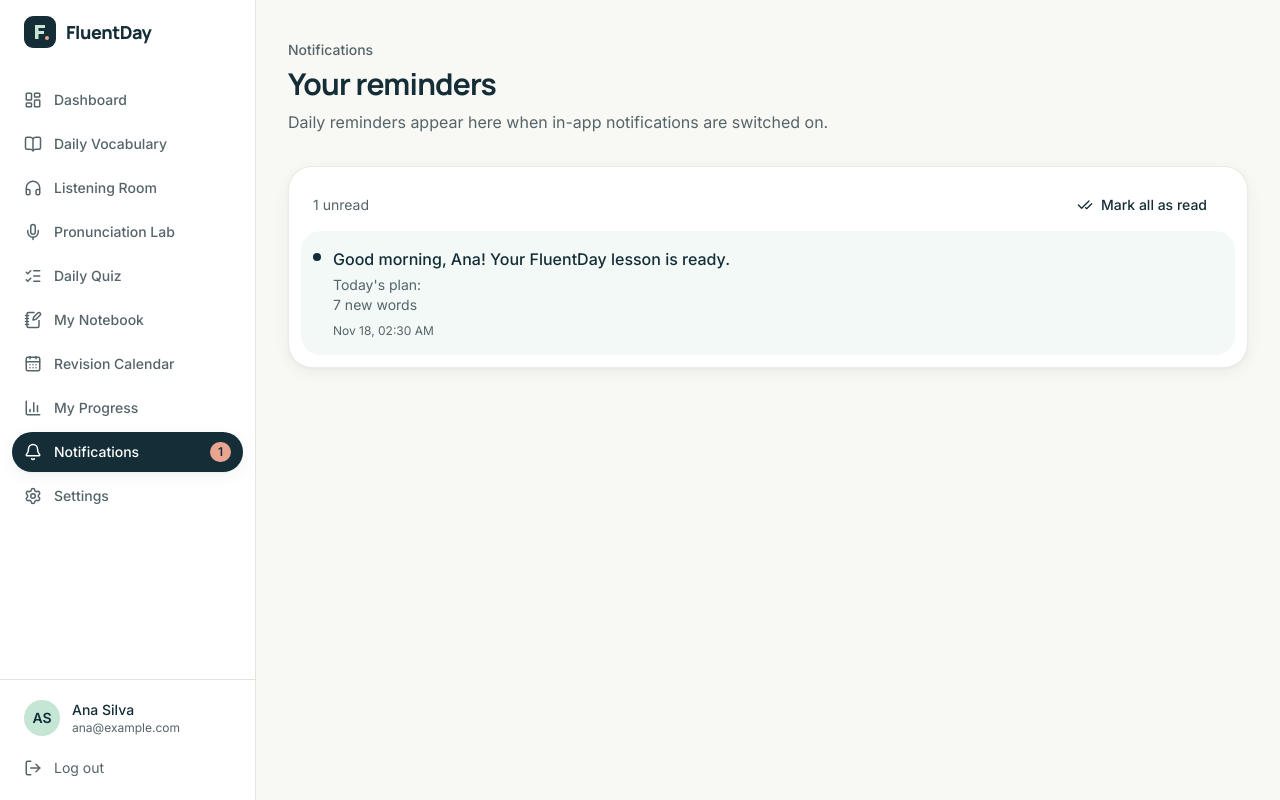
notifications › lists reminders, shows the unread badge and marks them read
Expected: the text "Good morning, Ana! Your FluentDay lesson is ready." is shown, top-left (333, 247), bottom-right (730, 271)
Expected: the link with aria-label "Notifications, 1 unread" is shown, top-left (12, 432), bottom-right (243, 472)
Click the button "Mark all as read" at (1142, 205), box top-left (1061, 187), bottom-right (1223, 223)
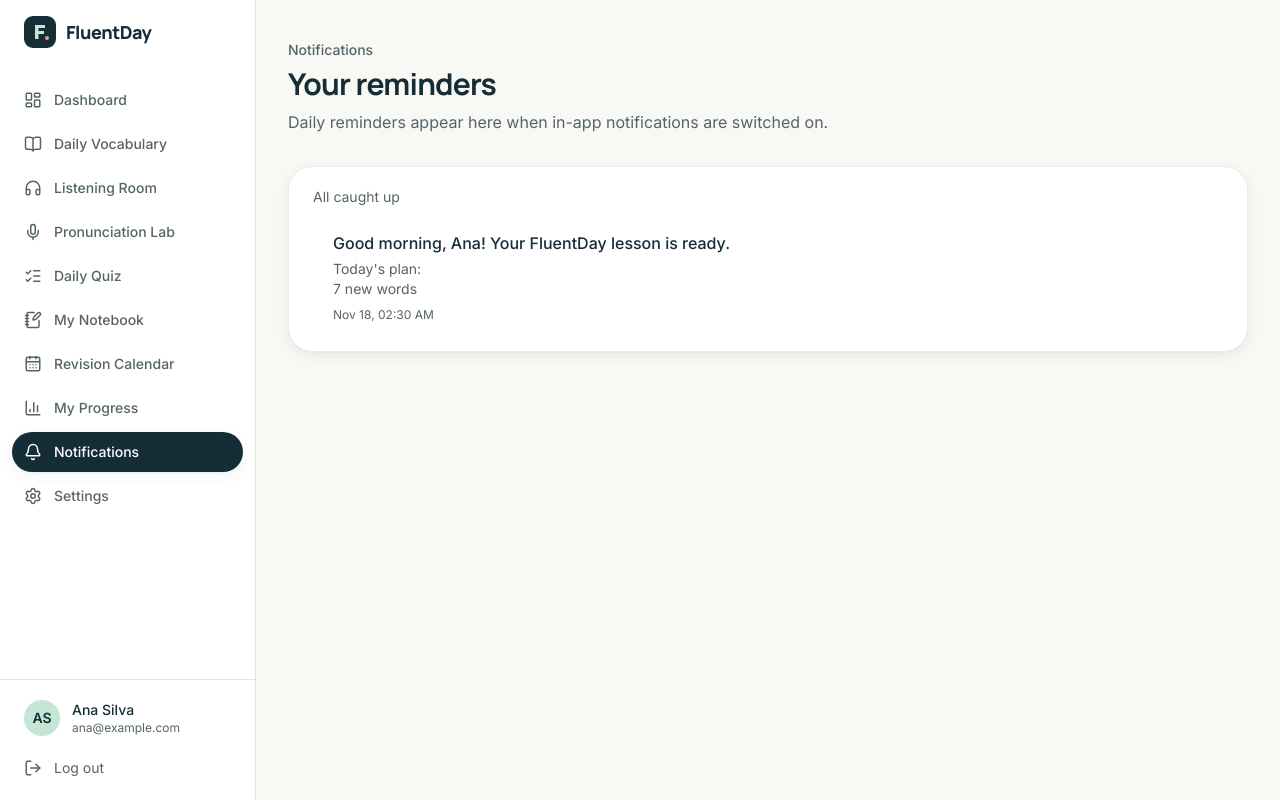
Expected: the text "All caught up" is shown, top-left (313, 187), bottom-right (400, 207)
